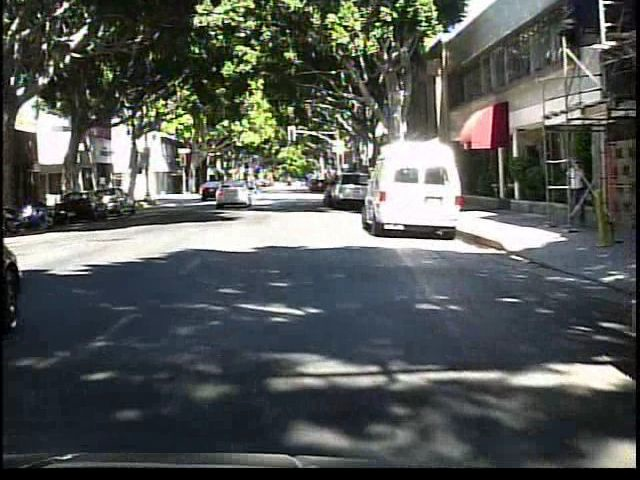person: (560, 157, 587, 232), (247, 175, 262, 205)
